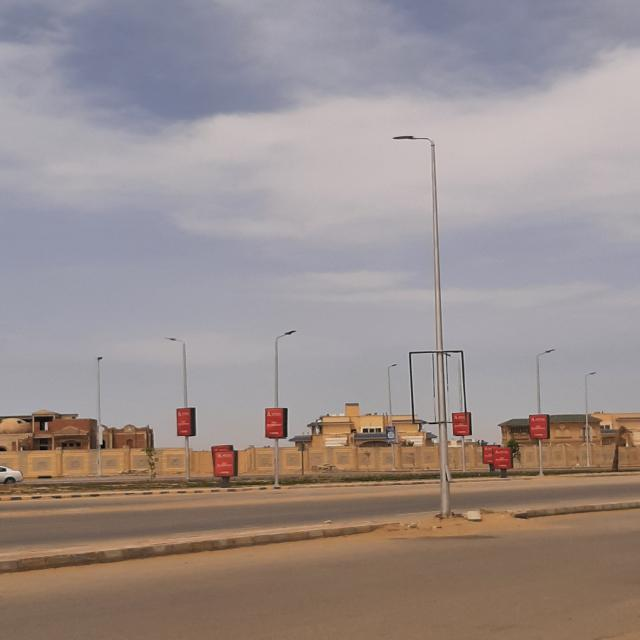Street Light: (393, 133, 452, 514), (272, 329, 297, 486), (164, 336, 191, 479), (536, 348, 556, 475), (386, 364, 397, 470), (584, 371, 596, 466), (96, 356, 105, 476)
